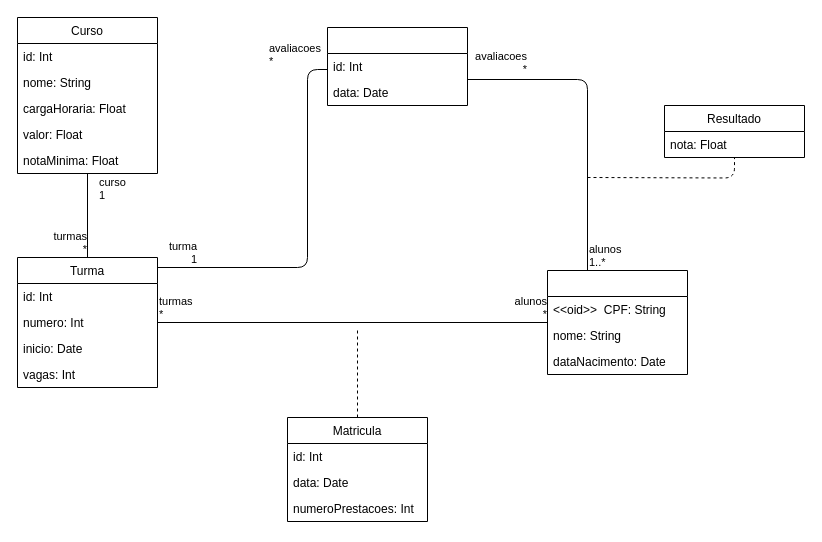
The diagram is 822 pixels wide and 542 high, and some of its shapes have lost their labels. Here are the shapes that lost their labels. From the top down, the box of each, then its label:
(326, 26, 468, 106): Avaliacao
(546, 270, 688, 374): Aluno
